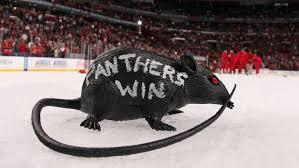rat: (28, 44, 238, 157)
